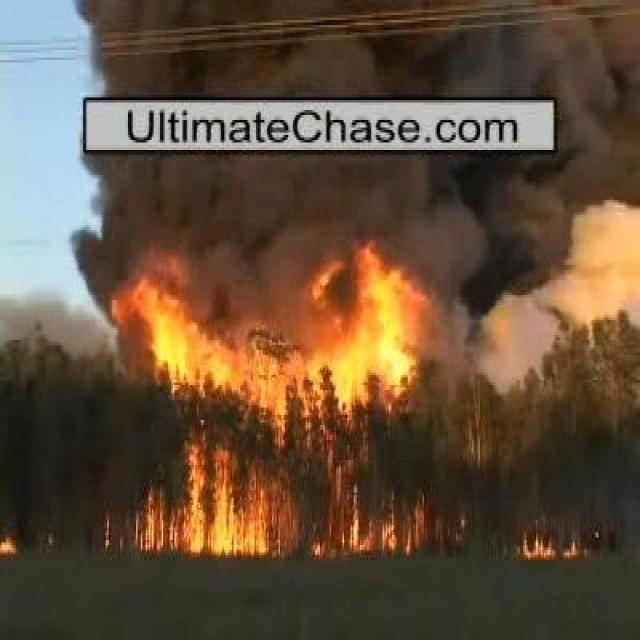fire: (191, 481, 242, 554)
smoke: (94, 164, 608, 257), (109, 24, 579, 92)
